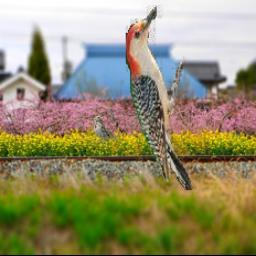Sparrow: (94, 114, 121, 147)
Woodpecker: (127, 5, 194, 190)
